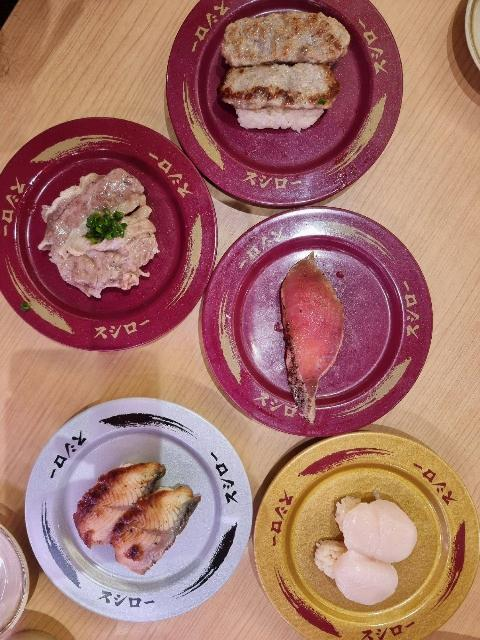jangold: (258, 467, 332, 624), (329, 427, 469, 505), (418, 507, 480, 640)
janwhite: (103, 394, 244, 491), (8, 439, 78, 604), (73, 558, 208, 632), (207, 491, 252, 593)
